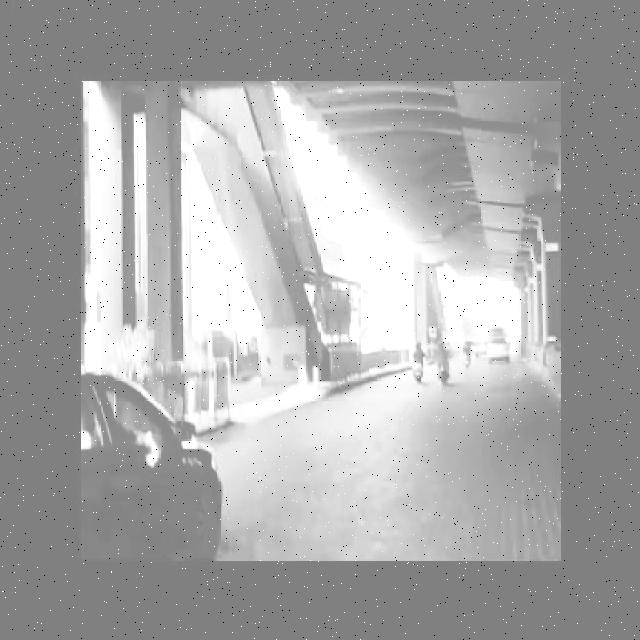Car: (76, 358, 232, 557), (483, 328, 517, 374)
